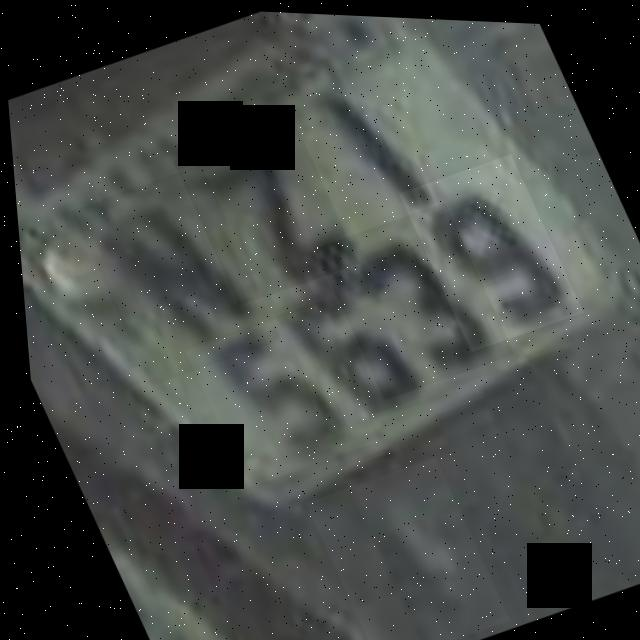3: (308, 194, 513, 402)
4: (293, 448, 502, 640)
5: (176, 298, 375, 490)
9: (393, 145, 582, 352)
N: (64, 158, 279, 389)
Z: (168, 112, 359, 308)
